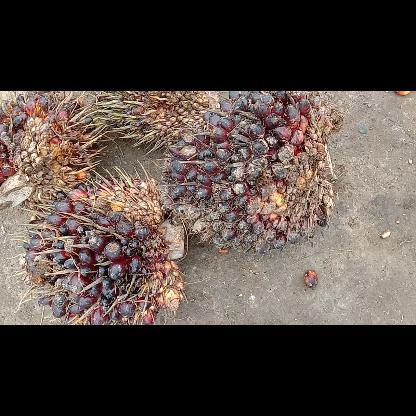Kurang masak: (168, 90, 344, 254), (25, 178, 184, 324)
TBS abnormal: (108, 90, 220, 152)
TBS masak: (0, 92, 98, 206)
